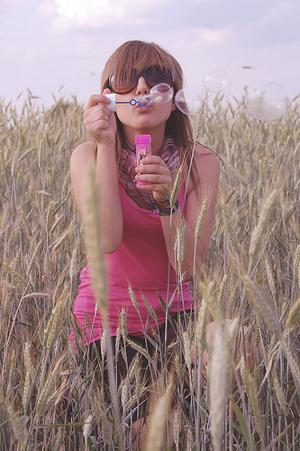person: (70, 41, 221, 451)
